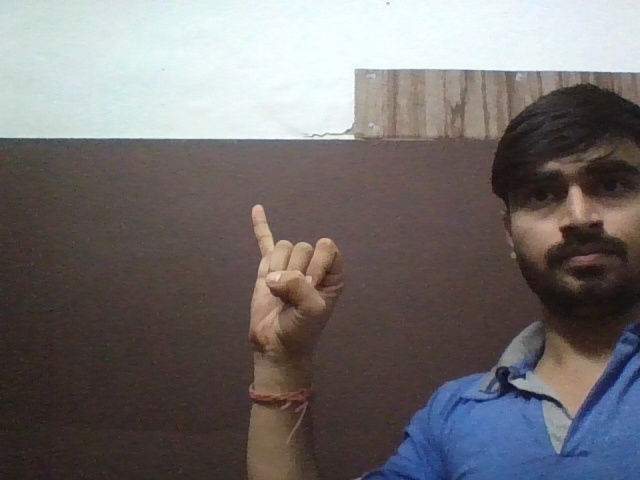I: (240, 201, 358, 358)
